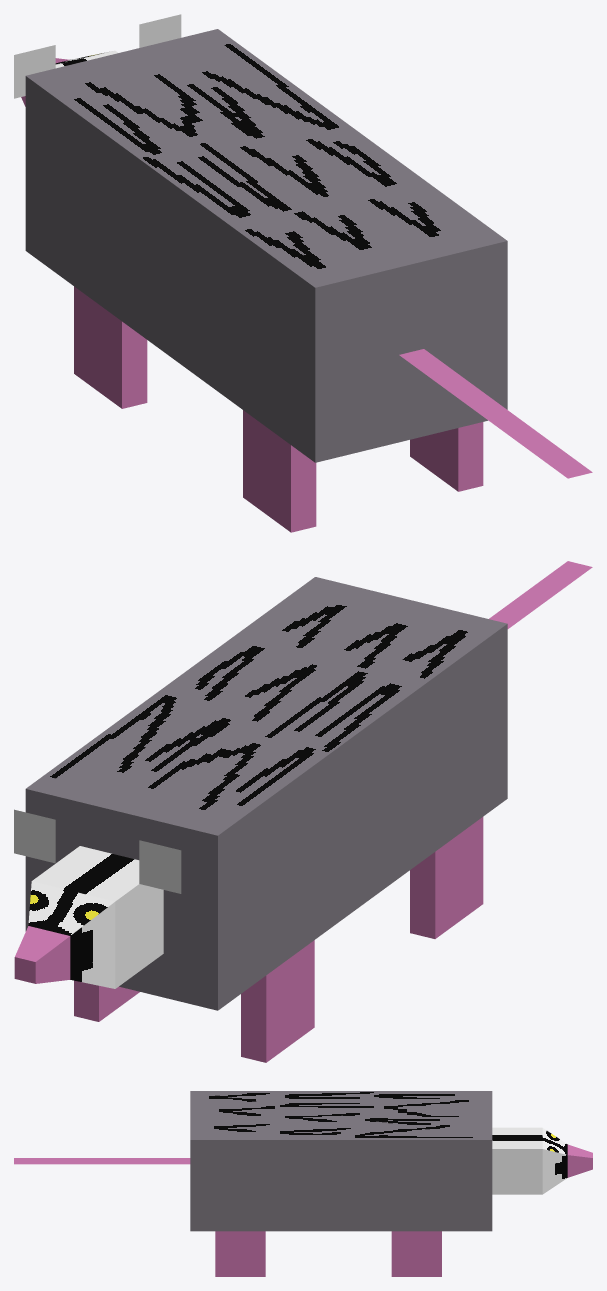
File: sarue.fbx
3 renders of one model, top to bottom at view 1: azimuth 30°, elevation 25°; view 2: azimuth 150°, elevation 25°; view 3: azimuth 270°, elevation 25°, orthographic. The views are drawn at different scales.
Visible parts, largest first — view 1: corpo, cuboid_3, cuboid, cuboid_4, cuboid_2, cube, cube_1; view 2: corpo, head, cuboid, cuboid_3, cuboid_4, cube, cube_1, cuboid_1; view 3: corpo, head, cuboid_1, cuboid_2, cuboid_4.
Part boxes in pixels (x1=…): corpo: x1=25, y1=29, x2=507, y2=462; cuboid_3: x1=243, y1=410, x2=316, y2=532; cuboid: x1=74, y1=286, x2=147, y2=408; cuboid_4: x1=399, y1=349, x2=592, y2=478; cuboid_2: x1=410, y1=422, x2=483, y2=491; cube: x1=14, y1=45, x2=55, y2=98; cube_1: x1=139, y1=14, x2=181, y2=47; corpo: x1=25, y1=577, x2=507, y2=1010; head: x1=14, y1=846, x2=163, y2=988; cuboid: x1=241, y1=940, x2=314, y2=1062; cuboid_3: x1=410, y1=817, x2=483, y2=938; cuboid_4: x1=489, y1=561, x2=592, y2=628; cube: x1=139, y1=840, x2=181, y2=893; cube_1: x1=14, y1=809, x2=55, y2=863; cuboid_1: x1=74, y1=980, x2=139, y2=1021; corpo: x1=190, y1=1091, x2=492, y2=1231; head: x1=492, y1=1127, x2=592, y2=1194; cuboid_1: x1=391, y1=1231, x2=441, y2=1276; cuboid_2: x1=215, y1=1231, x2=265, y2=1276; cuboid_4: x1=14, y1=1158, x2=190, y2=1164.
Bounding box in the file's own units: 28.75 × 37.5 × 144.
Materials: 6 (6 with a texture image).
